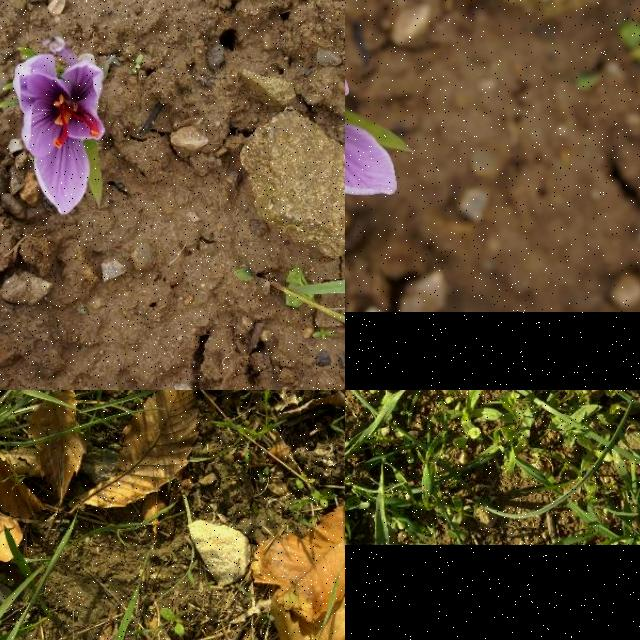flower: (12, 54, 106, 216), (345, 27, 397, 194)
